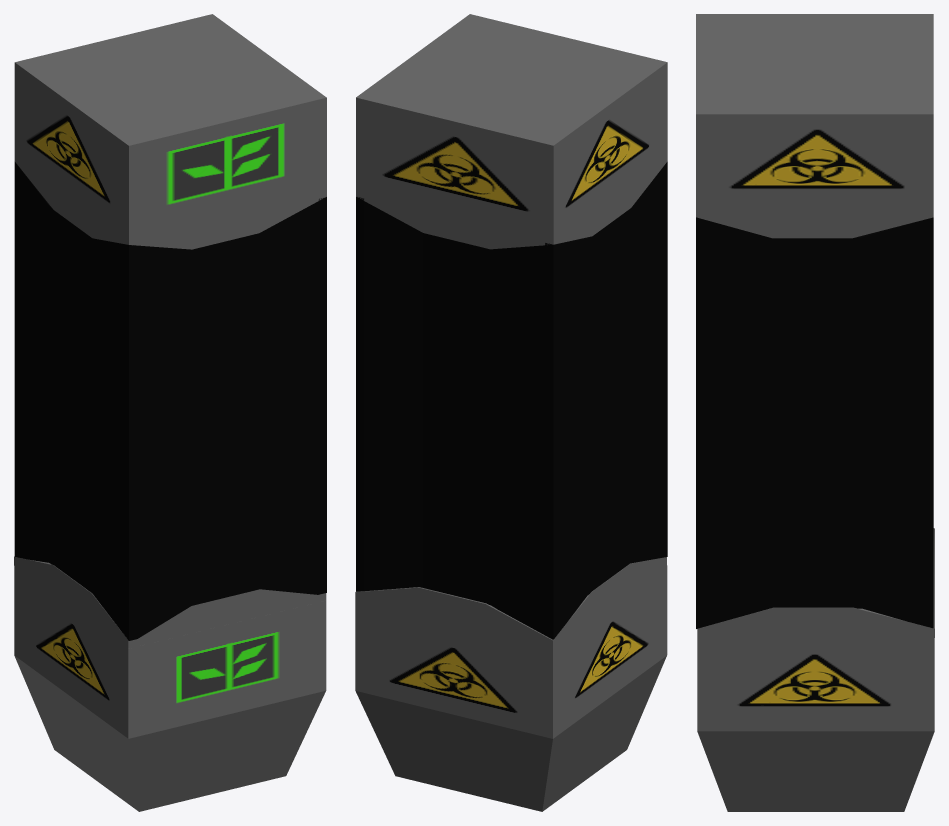
The model's file is Item_Bioweapon_V4.fbx.
The picture shows the model from 3 angles, left to right: view 1: azimuth 30°, elevation 25°; view 2: azimuth 150°, elevation 25°; view 3: azimuth 270°, elevation 25°; orthographic projection. The views are drawn at different scales.
Visible parts, largest first — view 1: pGlassF, pTopBase, pBotBase, pGlassL, pTopContourF, pBotContourF, pGlassR, pBotContourL, pTopContourL; view 2: pGlassB, pTopBase, pBotBase, pGlassL, pBotContourB, pTopContourB, pGlassR, pBotContourL, pTopContourL; view 3: pGlassR, pTopBase, pBotBase, pTopContourR, pBotContourR.
Part boxes in pixels (<box>): pGlassF: <box>137,201,318,638</box>; pTopBase: <box>14,14,326,235</box>; pBotBase: <box>14,566,326,811</box>; pGlassL: <box>14,161,137,640</box>; pTopContourF: <box>124,187,326,249</box>; pBotContourF: <box>123,589,326,648</box>; pGlassR: <box>318,197,326,594</box>; pBotContourL: <box>14,556,128,647</box>; pTopContourL: <box>14,153,137,244</box>; pGlassB: <box>364,201,544,635</box>; pTopBase: <box>356,14,667,235</box>; pBotBase: <box>355,565,667,811</box>; pGlassL: <box>545,161,667,639</box>; pBotContourB: <box>355,587,557,649</box>; pTopContourB: <box>356,188,558,249</box>; pGlassR: <box>356,197,364,591</box>; pBotContourL: <box>544,557,666,648</box>; pTopContourL: <box>545,153,667,244</box>; pGlassR: <box>696,217,933,628</box>; pTopBase: <box>696,14,933,207</box>; pBotBase: <box>697,638,934,811</box>; pTopContourR: <box>696,208,933,238</box>; pBotContourR: <box>697,607,934,637</box>.
Size of the model in its own units: 46 by 152 by 46.22.
Materials: 3 (1 with a texture image).
